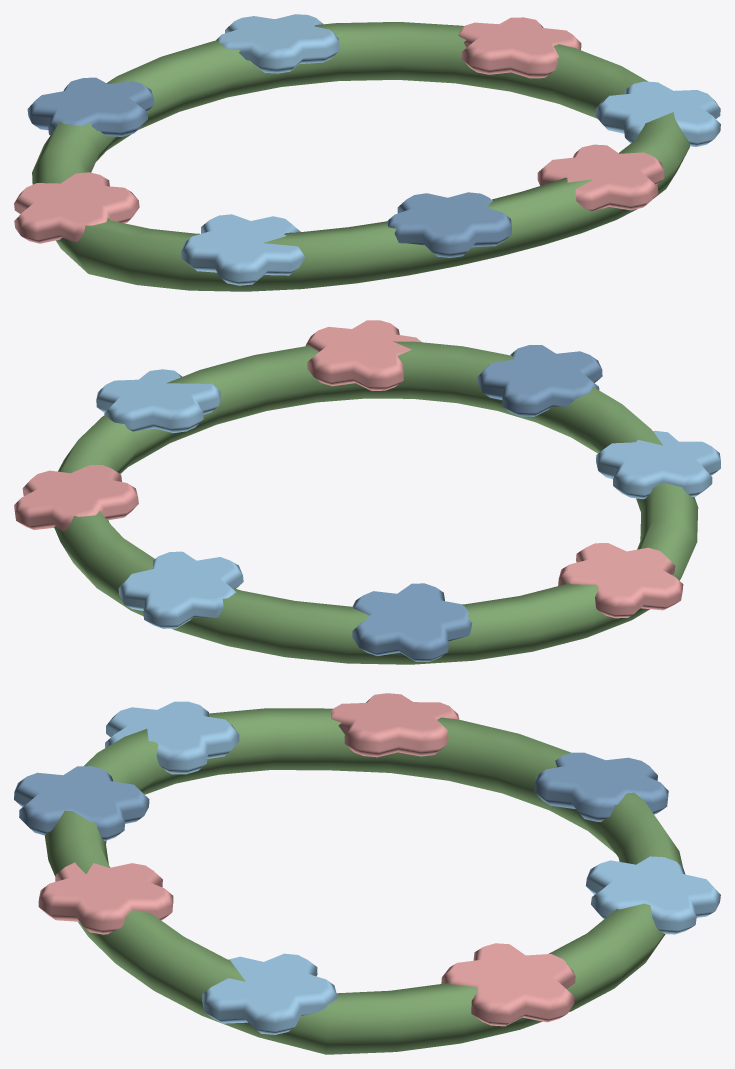
The model's file is cool_windflower_crown.glb.
3 views of the same model, one above another, from view 1: azimuth 30°, elevation 25°; view 2: azimuth 150°, elevation 25°; view 3: azimuth 270°, elevation 25° (orthographic). The views are drawn at different scales.
Visible parts, largest first — view 1: cool_windflower_crown_Head; view 2: cool_windflower_crown_Head; view 3: cool_windflower_crown_Head.
Part boxes in pixels (x1,y1,x2,y2): cool_windflower_crown_Head: (14, 14, 720, 291); cool_windflower_crown_Head: (14, 320, 720, 664); cool_windflower_crown_Head: (14, 693, 720, 1054).
Size of the model in its own units: 0.562 by 0.0754 by 0.5018.
